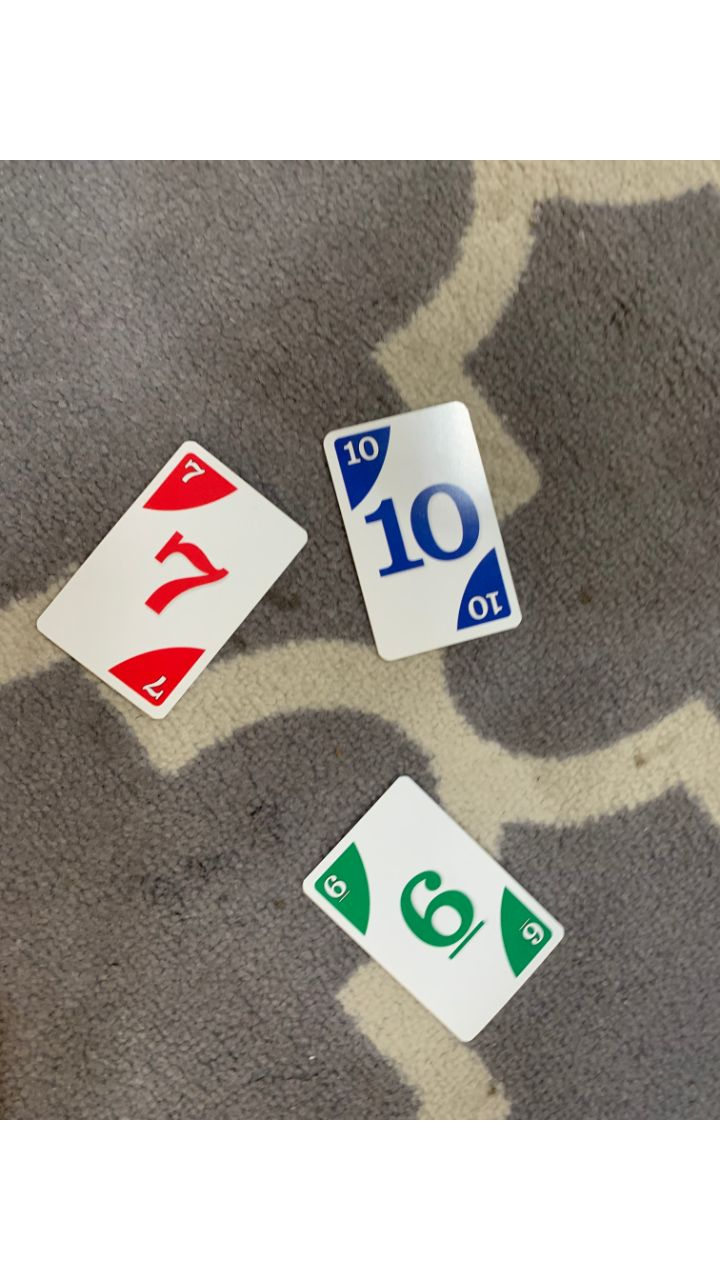seven: (38, 439, 306, 722)
six: (301, 776, 564, 1041)
ten: (321, 402, 523, 663)
